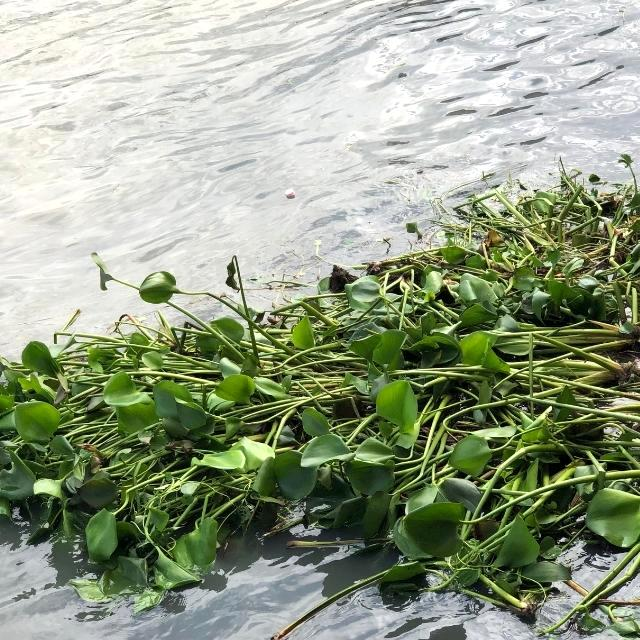water-hyacinth: (3, 174, 640, 618)
